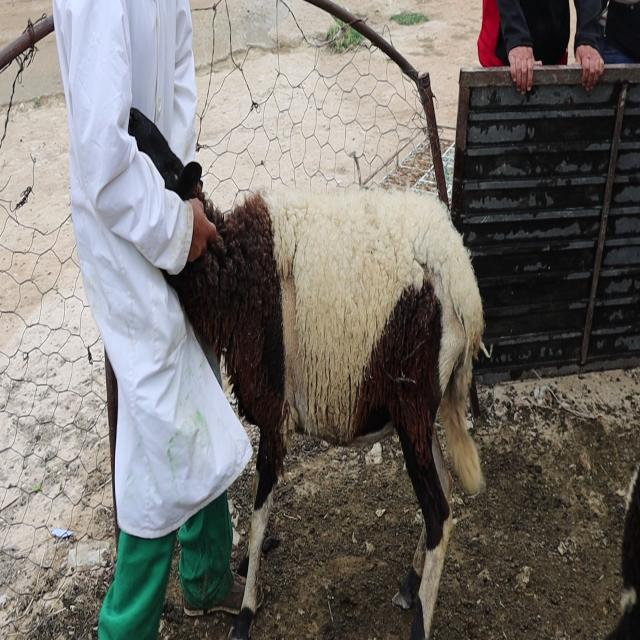Score_2: (165, 185, 485, 639)
